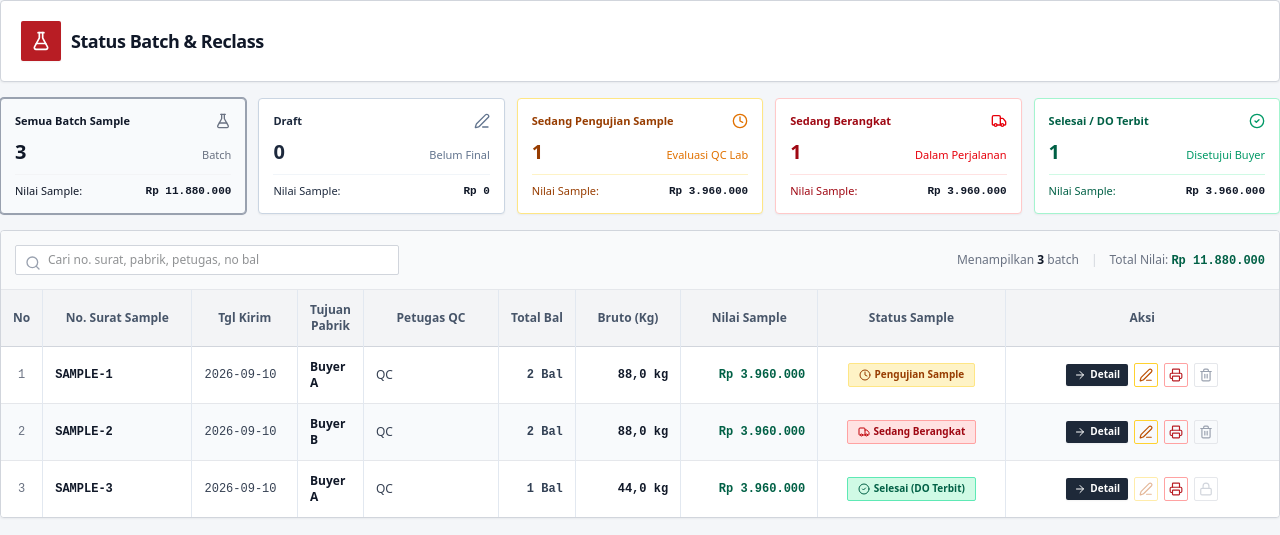
Status Batch & Reclass menampilkan semua daftar batch › kartu status menyaring daftar dengan satu klik
Click the text "Selesai / DO Terbit" at (1099, 121), box [1049,113,1149,130]
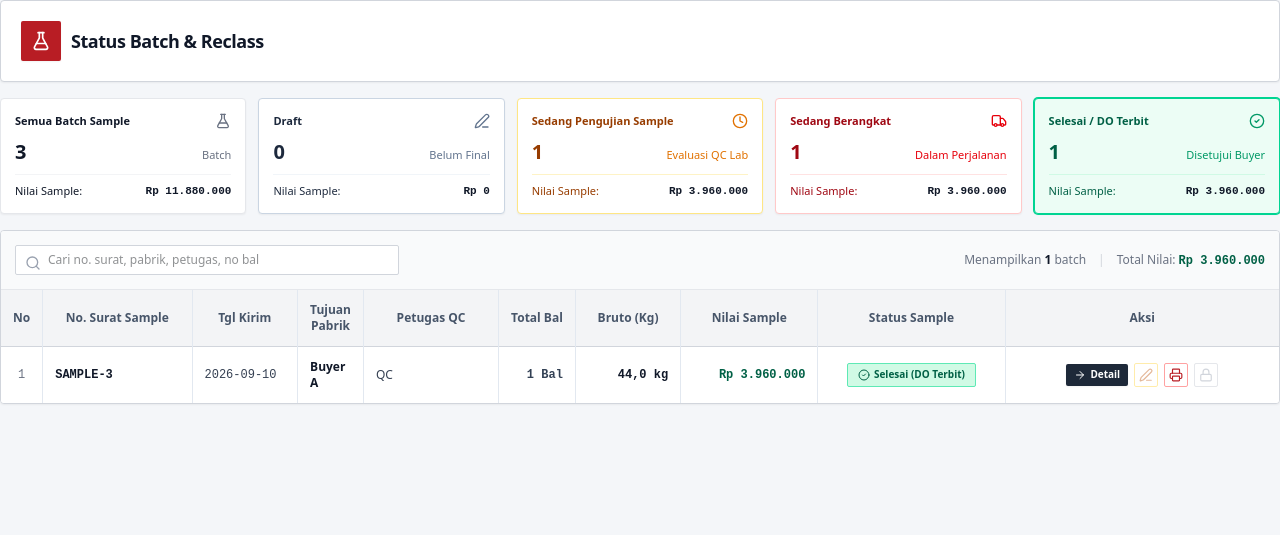
Expected: the text "SAMPLE-3" is shown, [55,368,113,382]
Expected: the text "SAMPLE-1" is gone
Click the text "Sedang Berangkat" at (841, 121), box [790,113,891,130]
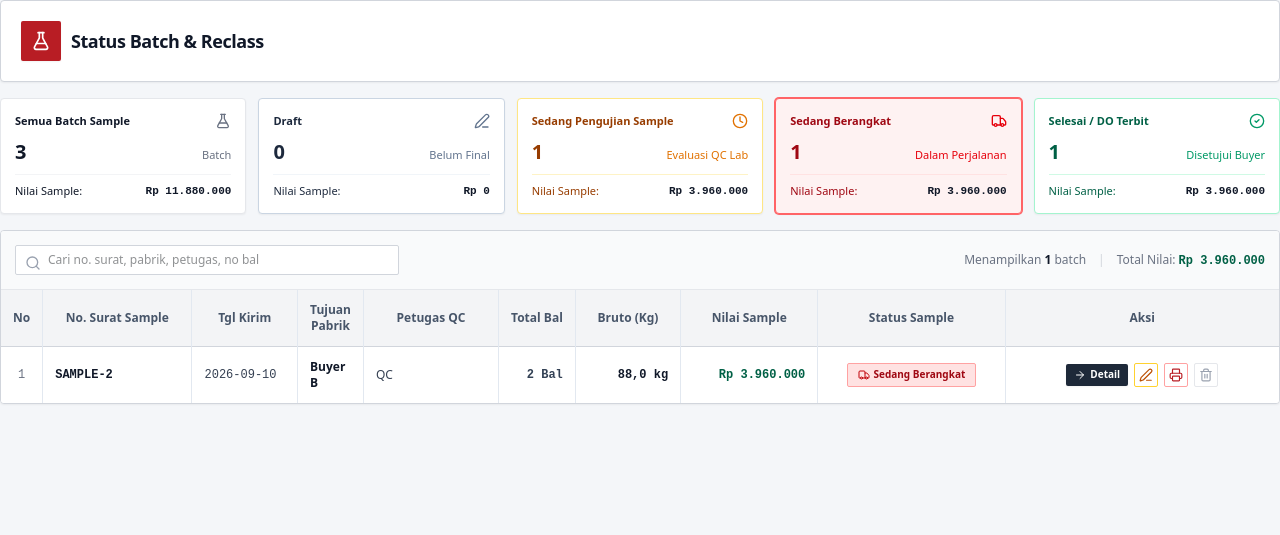
Expected: the text "SAMPLE-2" is shown, [55,368,113,382]
Expected: the text "SAMPLE-3" is gone
